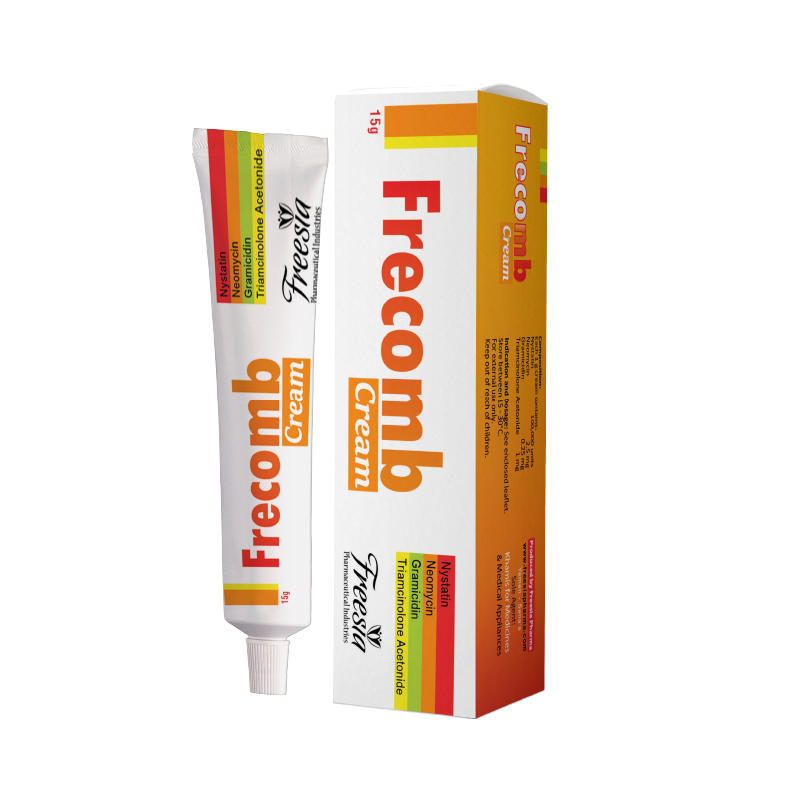Medicine: (332, 72, 580, 738), (178, 108, 343, 710)
